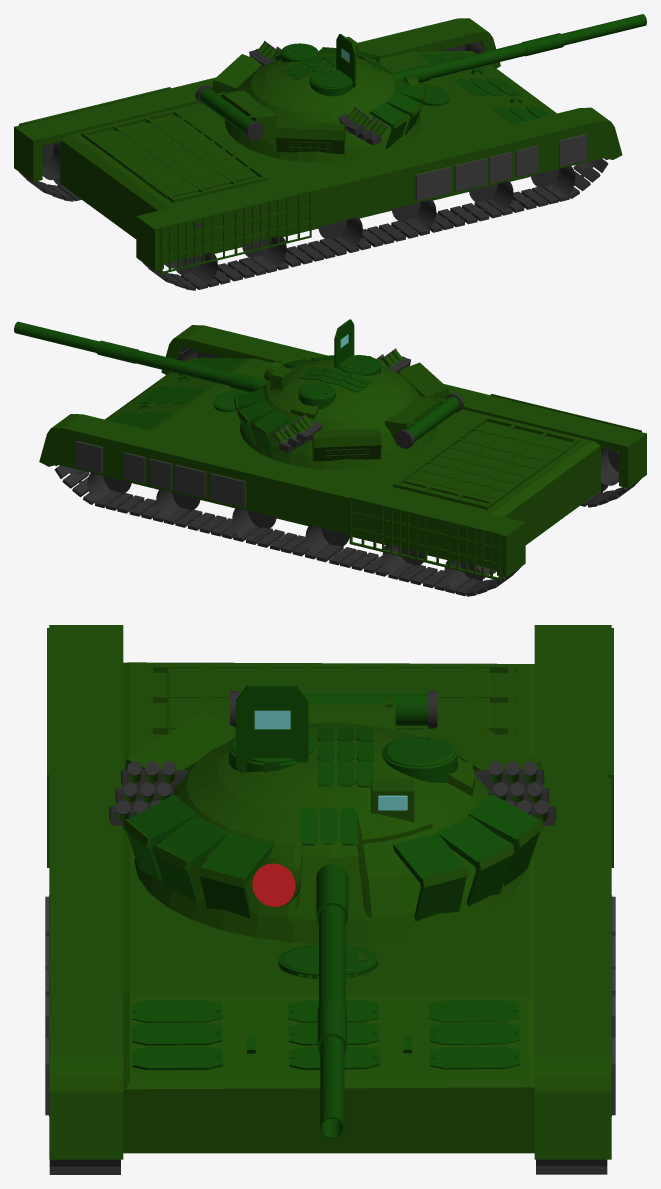
The picture shows the model from 3 angles, top to bottom: view 1: azimuth 30°, elevation 25°; view 2: azimuth 150°, elevation 25°; view 3: azimuth 270°, elevation 25°; orthographic projection. The views are drawn at different scales.
Visible parts, largest first — view 1: Cube.025, Cube, Cube.012, Sphere, Cube.017, Cube.015, Cube.024, Cube.016, Cube.009, Cube.110, Cylinder.004, Cube.008 (+14 smaller); view 2: Cube, Cube.016, Cube.110, Cube.017, Sphere, Cube.025, Cube.015, Cube.023, Cube.008, Cube.012, Cylinder.004, Cylinder.002 (+15 smaller); view 3: Cube, Cube.025, Cube.017, Sphere, Cube.016, Cube.015, Cylinder.028, Cube.007, Cube.001, Cube.009, Cube.006, Cube.008 (+30 smaller).
Part boxes in pixels (box(x1,y1,x2,y2)): Cube.025: box(136, 107, 622, 273); Cube: box(60, 51, 556, 253); Cube.012: box(142, 158, 608, 290); Sphere: box(225, 52, 421, 162); Cube.017: box(14, 18, 500, 182); Cube.015: box(81, 109, 267, 203); Cube.024: box(415, 134, 586, 200); Cube.016: box(14, 18, 487, 176); Cube.009: box(276, 121, 345, 154); Cube.110: box(19, 41, 484, 201); Cylinder.004: box(428, 42, 527, 78); Cube.008: box(212, 54, 261, 96); Cube: box(105, 358, 600, 559); Cube.016: box(39, 414, 523, 580); Cube.110: box(54, 464, 520, 596); Cube.017: box(53, 414, 525, 579); Sphere: box(240, 359, 436, 469); Cube.025: box(161, 325, 646, 488); Cube.015: box(393, 416, 579, 509); Cube.023: box(75, 441, 245, 507); Cube.008: box(312, 428, 381, 461); Cube.012: box(177, 347, 640, 507); Cylinder.004: box(133, 350, 232, 385); Cylinder.002: box(14, 321, 99, 352); Cube: box(123, 662, 534, 1153); Cube.025: box(45, 625, 123, 1159); Cube.017: box(534, 625, 611, 1159); Sphere: box(134, 722, 525, 943); Cube.016: box(537, 625, 615, 1159); Cube.015: box(146, 664, 516, 746); Cylinder.028: box(235, 685, 308, 773); Cube.007: box(393, 833, 466, 921); Cube.001: box(200, 833, 273, 918); Cube.009: box(125, 712, 235, 770); Cube.006: box(437, 815, 511, 906); Cube.008: box(422, 714, 541, 770).
Bounding box in the file's own units: 28.28 × 7.79 × 12.49.
